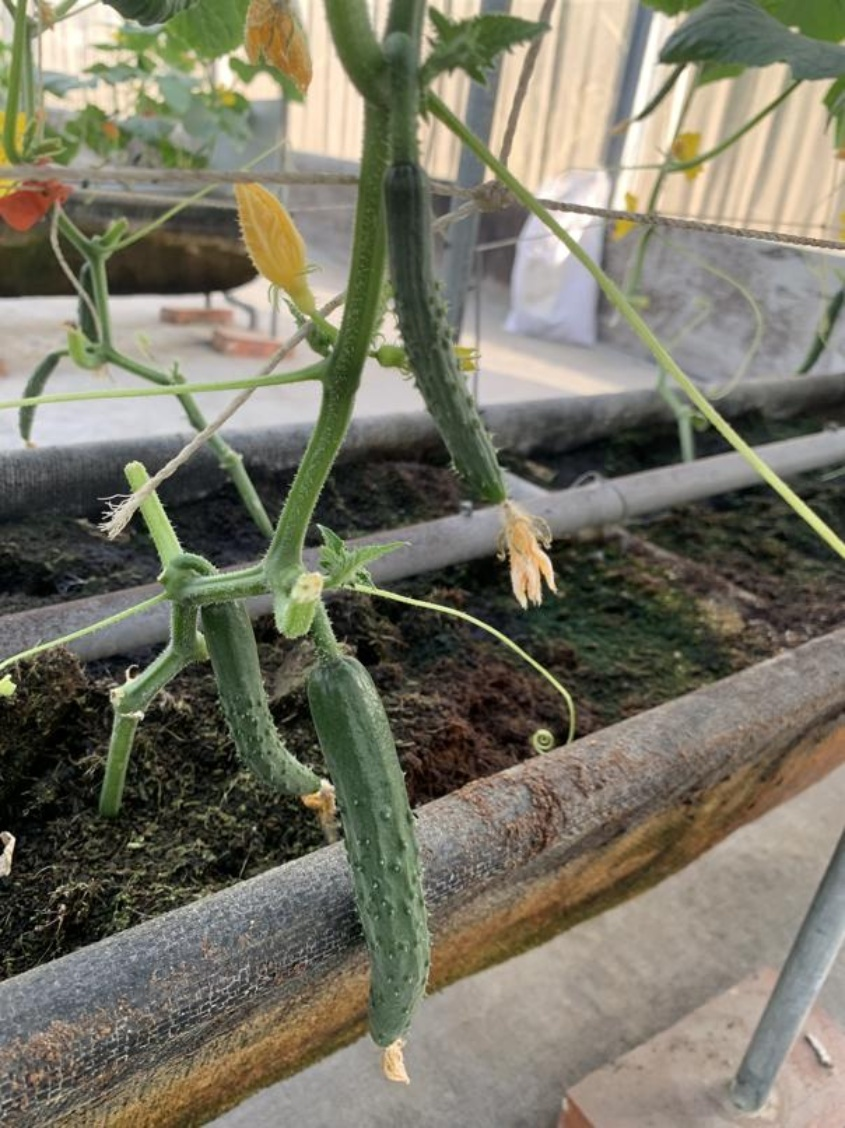mature: (302, 652, 438, 1065)
